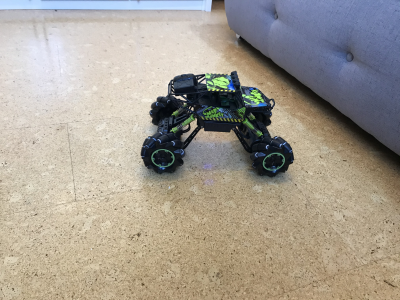remote control car: (137, 66, 296, 178)
